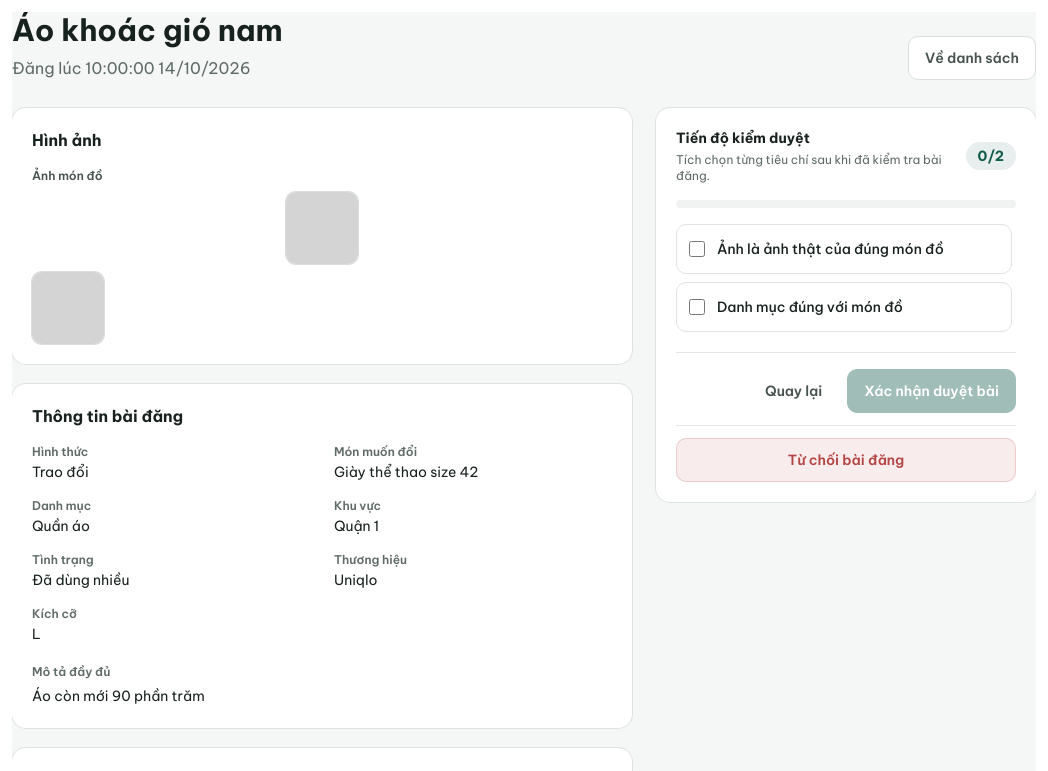
Test case: AdminModerationDetail › refetch checklist trước khi duyệt và bắt tích lại nếu Backend vừa thay đổi
Expected: the heading "Áo khoác gió nam" is shown, [12,12,282,48]
Click the checkbox labelled "Ảnh là ảnh thật của đúng món đồ" at (697, 249), box [689,241,705,257]
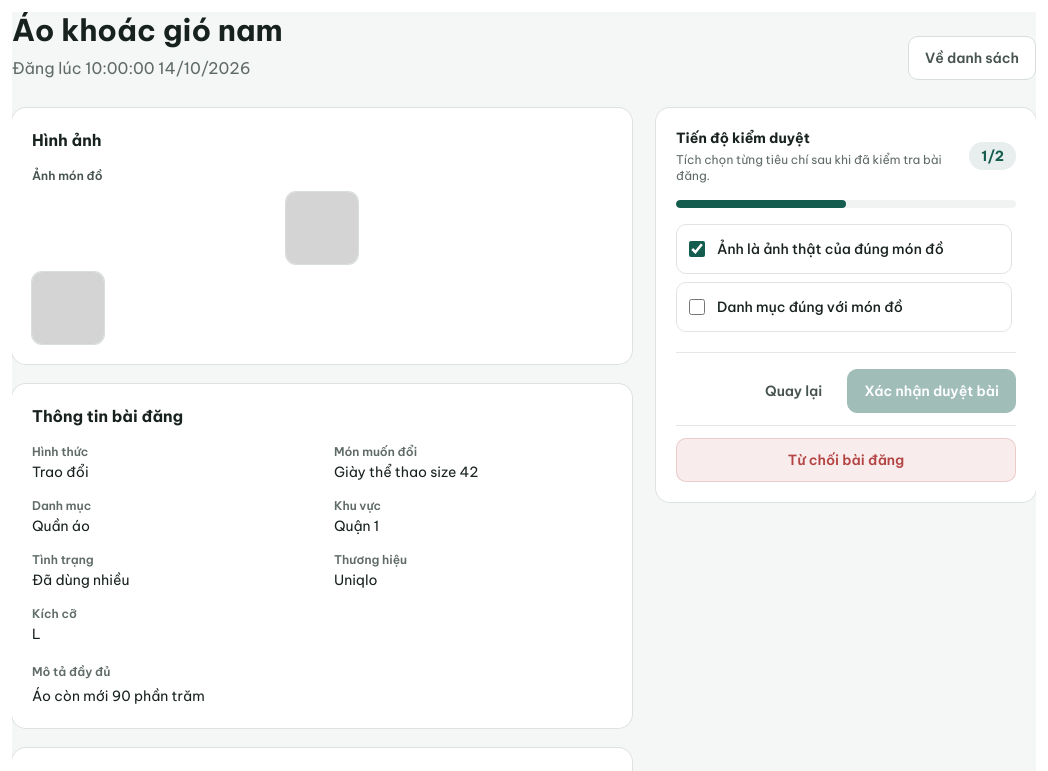
Click the checkbox labelled "Danh mục đúng với món đồ" at (697, 307), box [689,299,705,315]
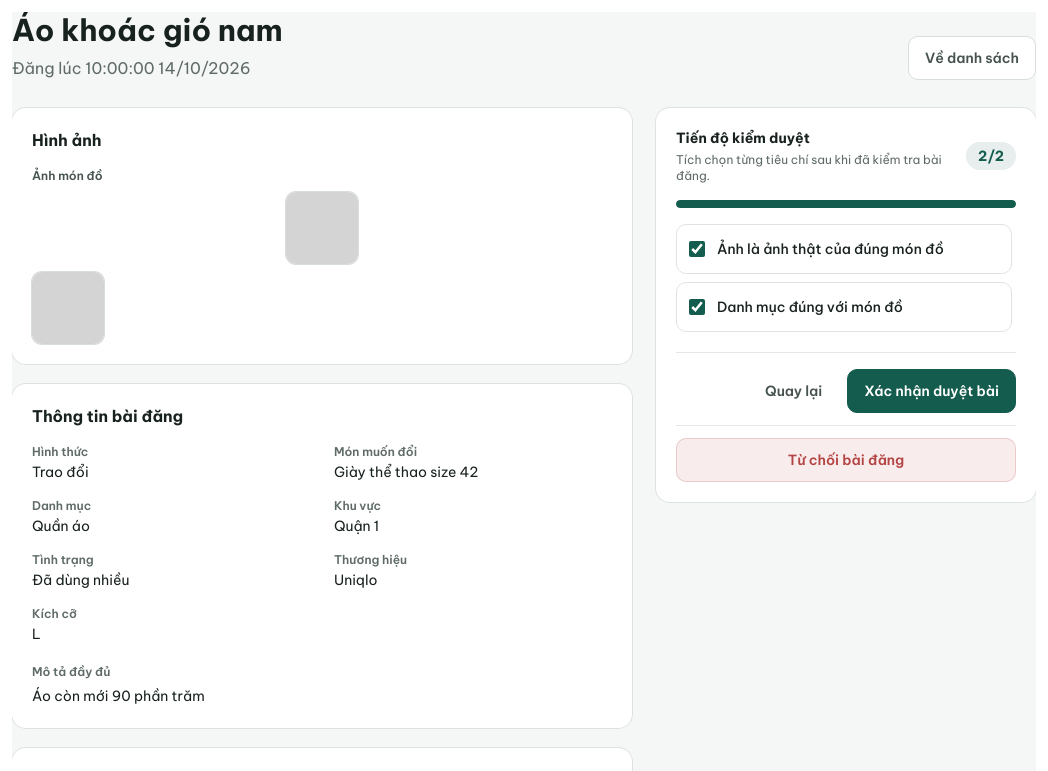
Click the button "Xác nhận duyệt bài" at (932, 391), box [847,369,1016,413]
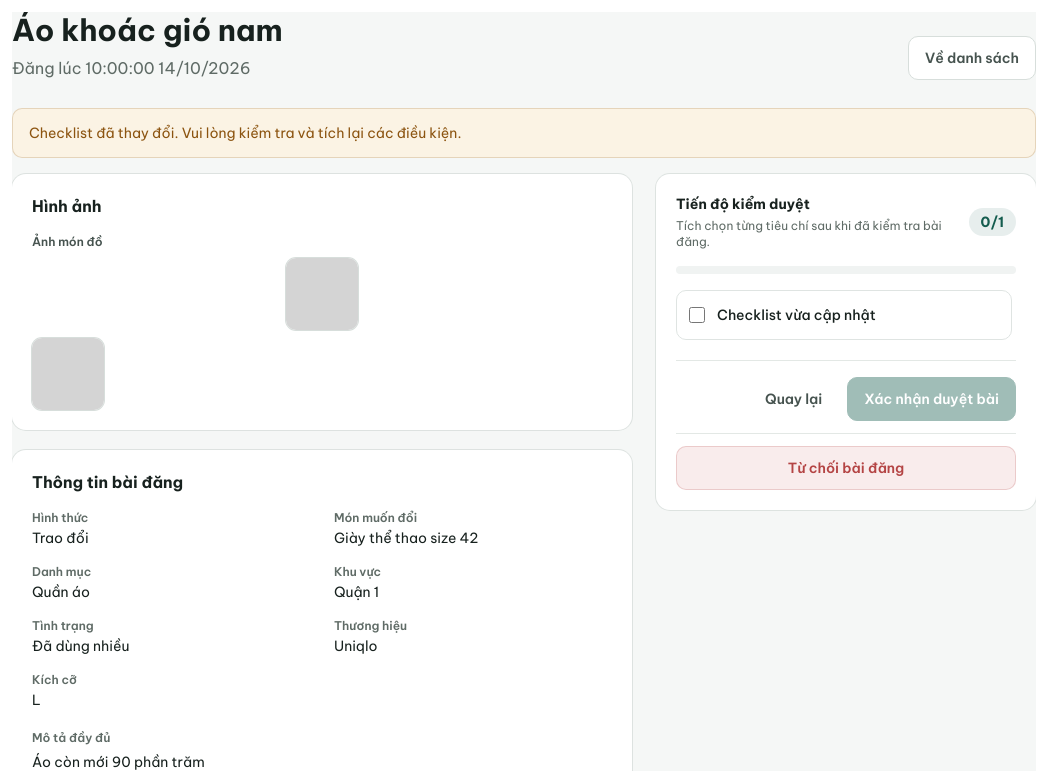
Expected: the text "Checklist đã thay đổi" is shown, [29,124,461,142]
Expected: the checkbox labelled "Checklist vừa cập nhật" is shown, [689,307,705,323]
